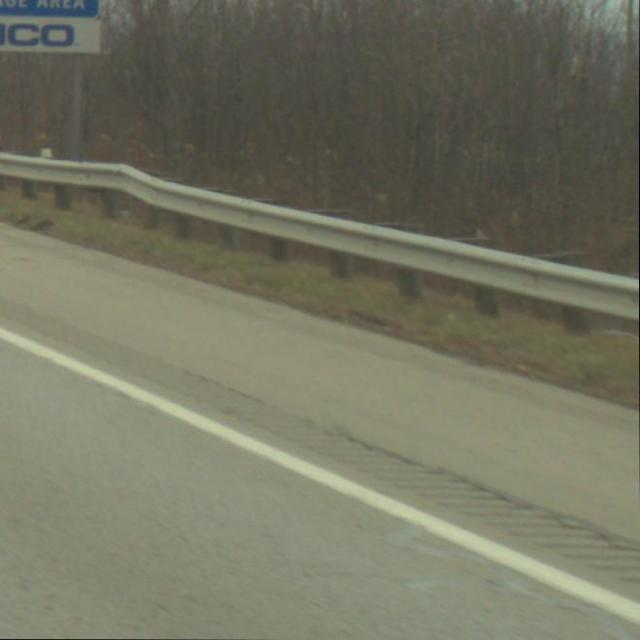Guard rail: (0, 146, 640, 344)
